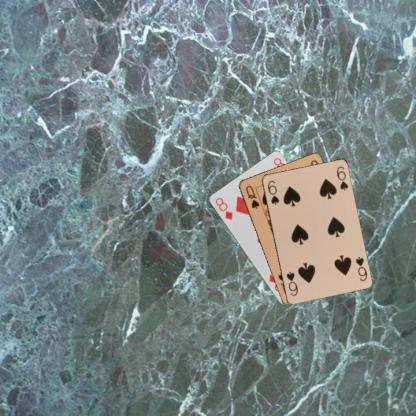6s: (265, 177, 280, 206), (353, 254, 368, 282)
8d: (212, 195, 233, 221)
Qs: (242, 182, 260, 210)
